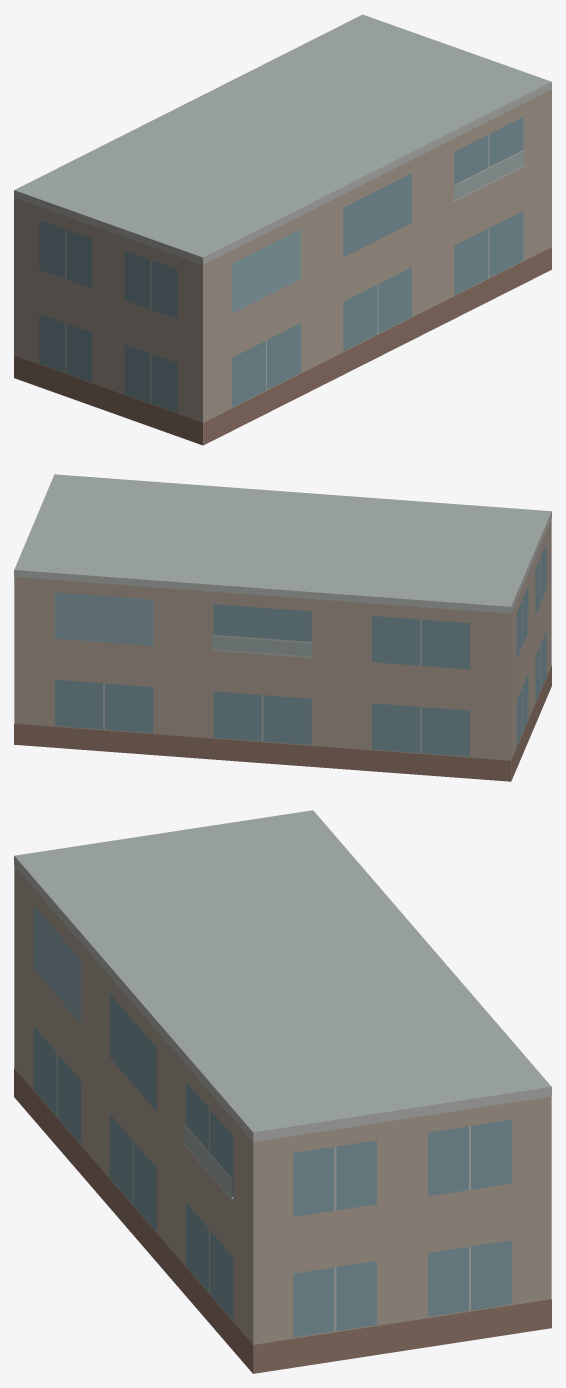
File: survey-upis-32826428.glb
3 renders of one model, top to bottom at view 1: azimuth 30°, elevation 25°; view 2: azimuth 150°, elevation 25°; view 3: azimuth 270°, elevation 25°, orthographic. The views are drawn at different scales.
Visible parts, largest first — view 1: survey-upis-32826428.tmp; view 2: survey-upis-32826428.tmp; view 3: survey-upis-32826428.tmp.
Boxes of the visible parts, box(x1,y1,x2,y2) form: survey-upis-32826428.tmp: box(14, 14, 551, 445); survey-upis-32826428.tmp: box(14, 474, 551, 781); survey-upis-32826428.tmp: box(14, 810, 551, 1373).
Bounding box in the file's own units: 17.49 × 6.1 × 12.33.
